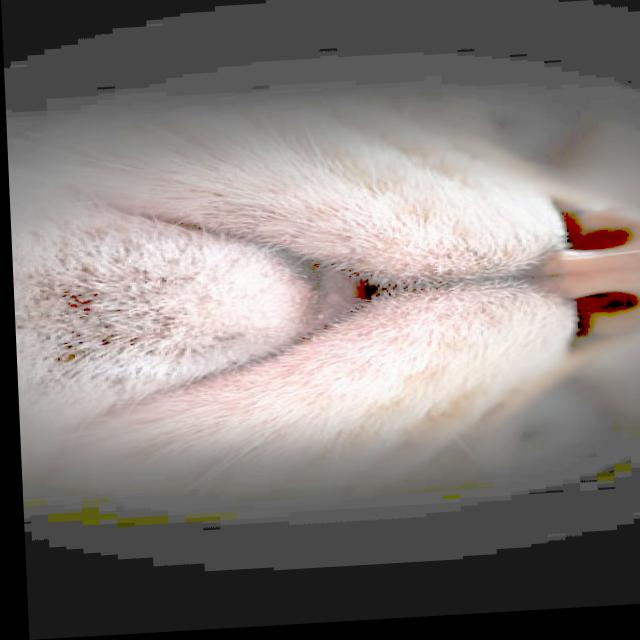acne: (17, 266, 181, 366)
